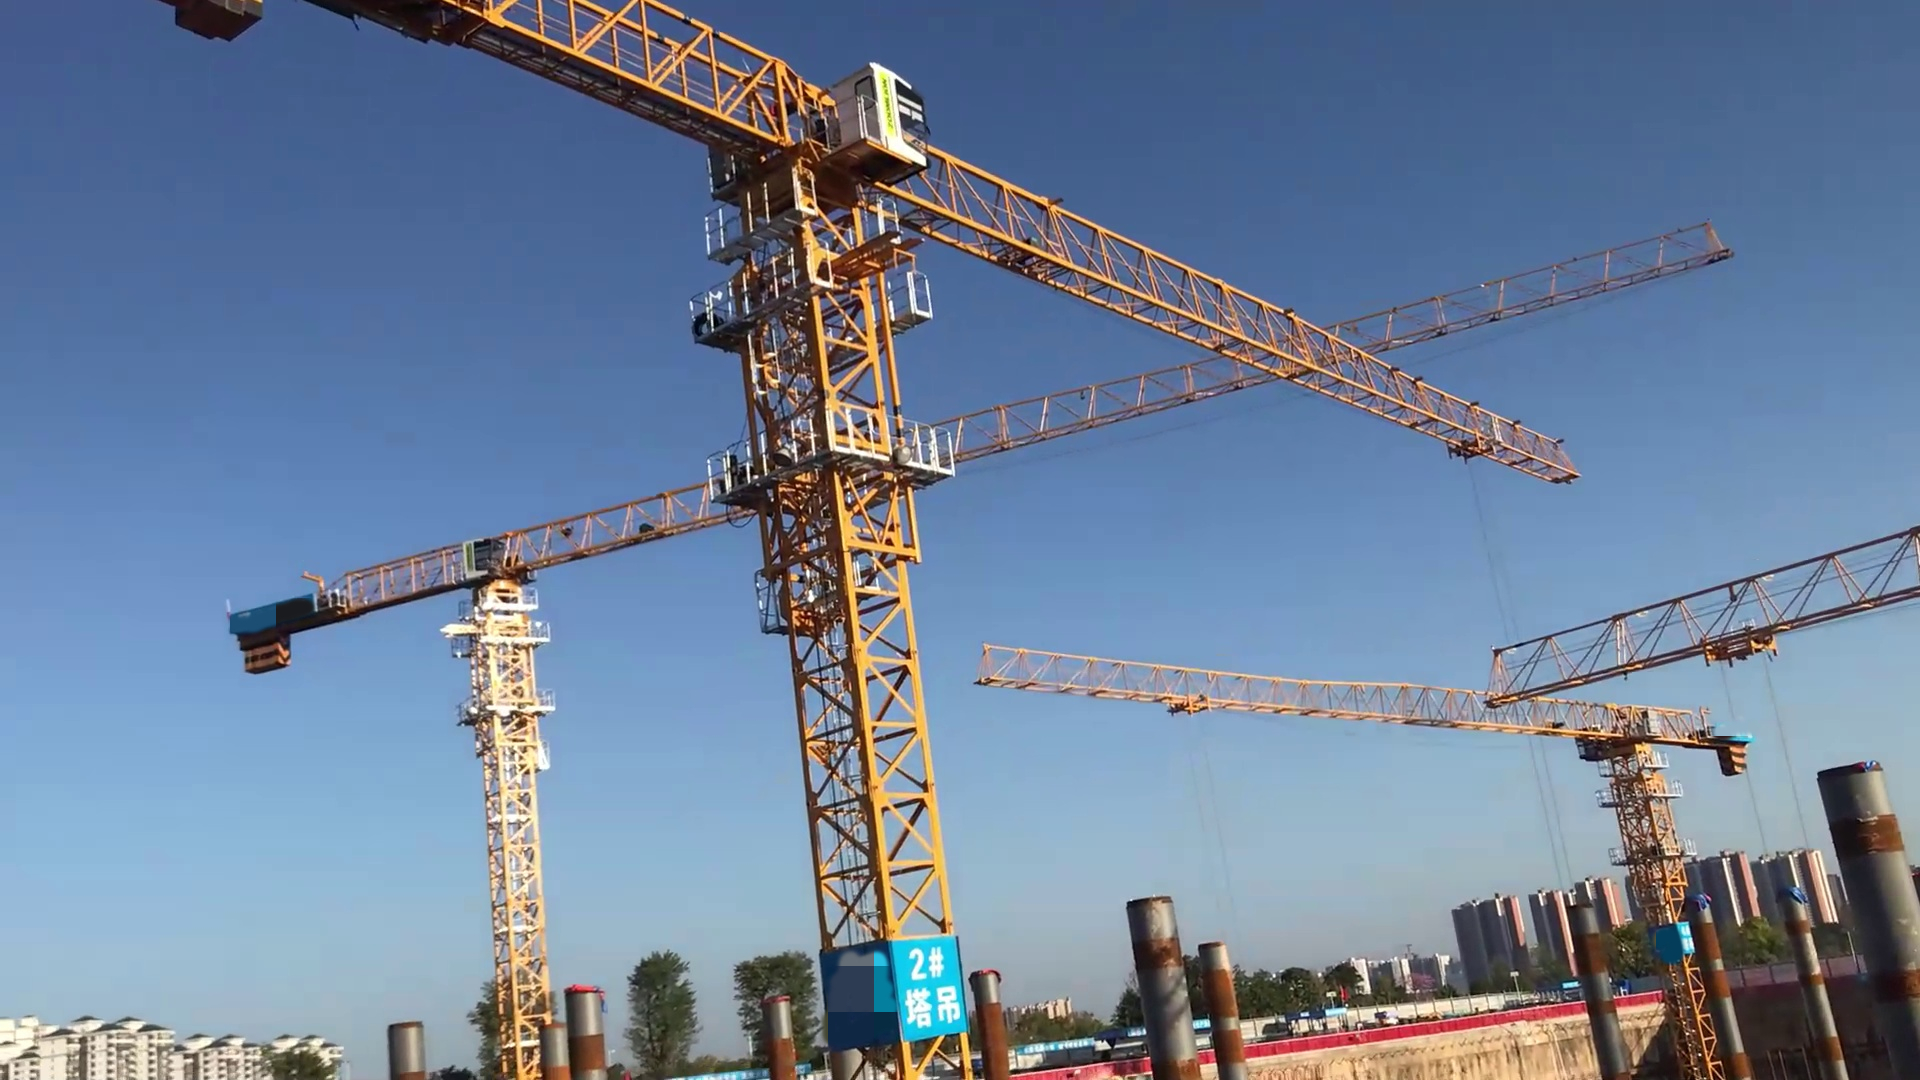slogan: (909, 935, 965, 1027)
